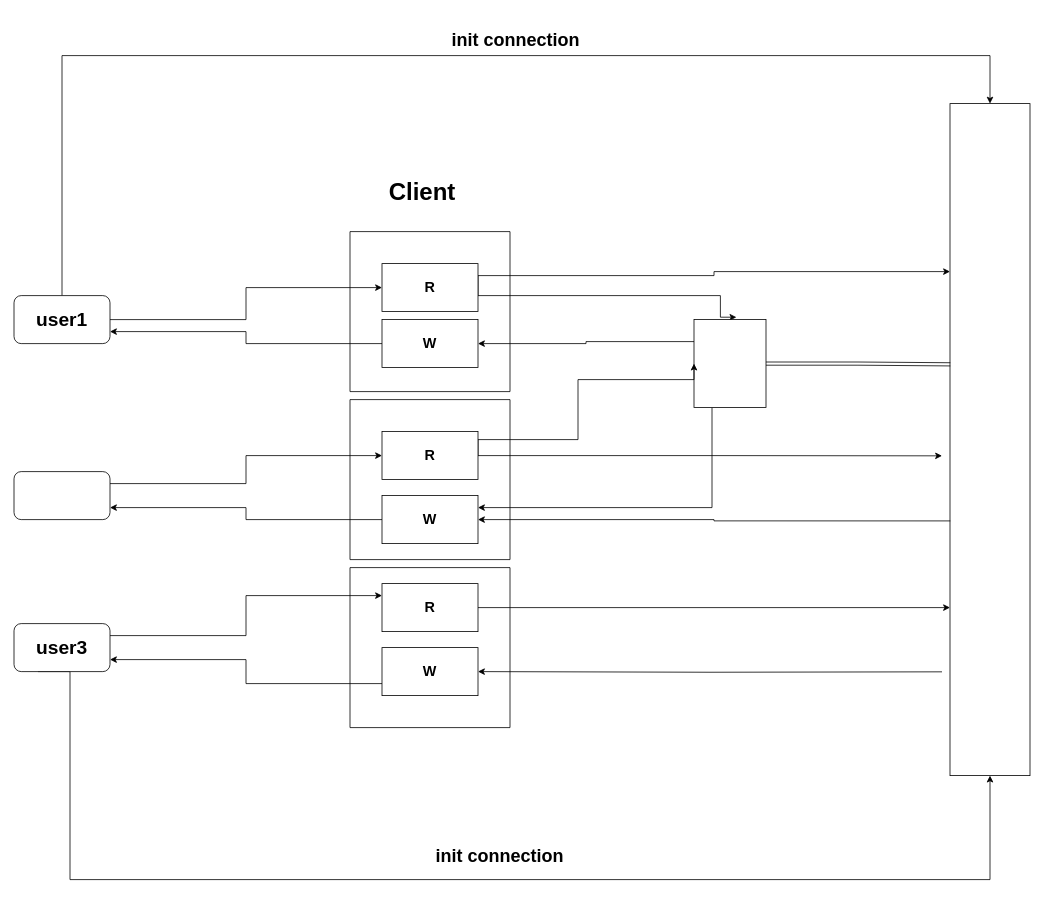
The diagram is 1044 pixels wide and 900 high, and some of its shapes have lost their labels. The centre of each missing label's shape, as x and y in pixels:
"Room" goes at pixel 729 363.
"Server" goes at pixel 989 439.
"user2" goes at pixel 61 495.
